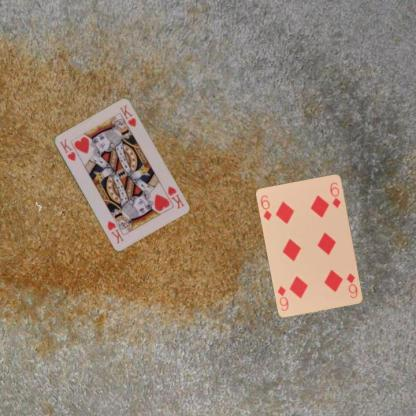6d: (258, 192, 274, 222), (344, 271, 359, 300)
Kh: (164, 183, 186, 210), (57, 136, 77, 162)
